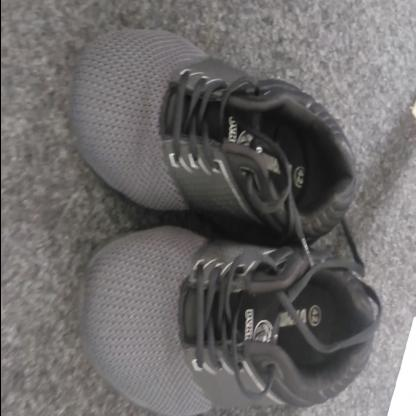safety-shoe: (68, 29, 376, 407)
